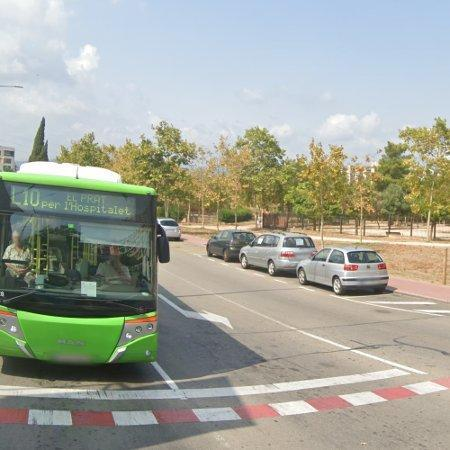buses: (0, 162, 170, 364)
